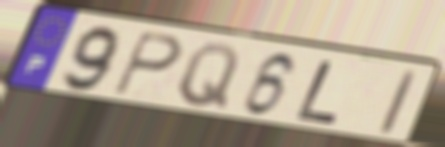6: (243, 51, 298, 118)
9: (62, 25, 123, 94)
I: (375, 67, 421, 138)
L: (292, 58, 343, 127)
P: (110, 29, 185, 98)
Q: (174, 41, 243, 112)
